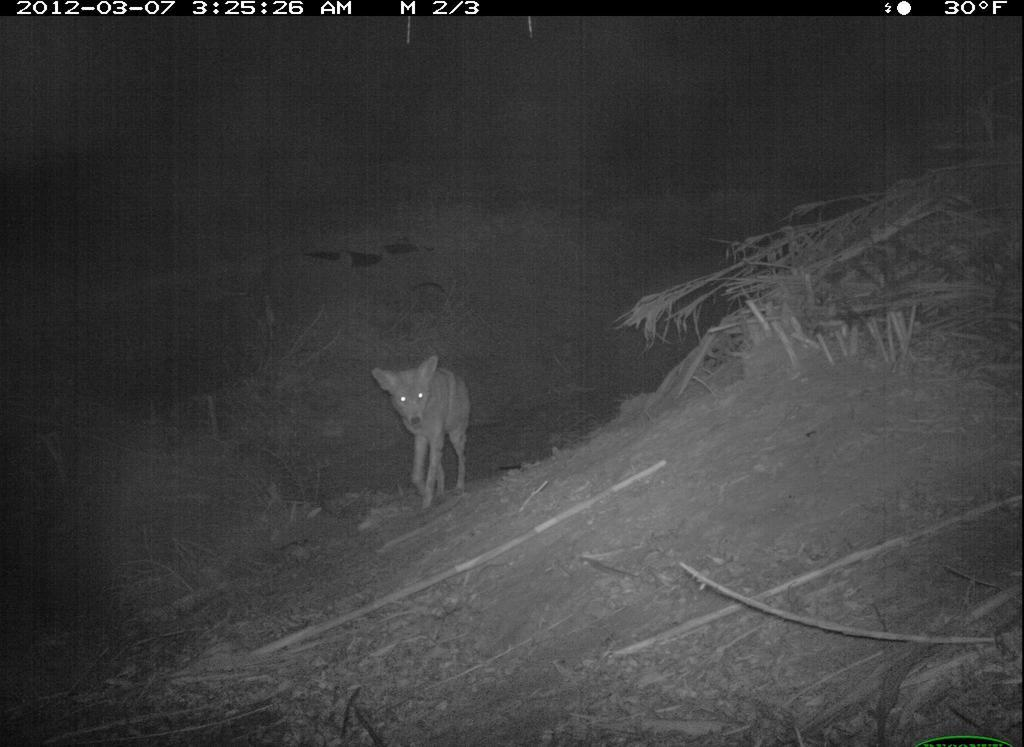coyote: (359, 353, 495, 532)
